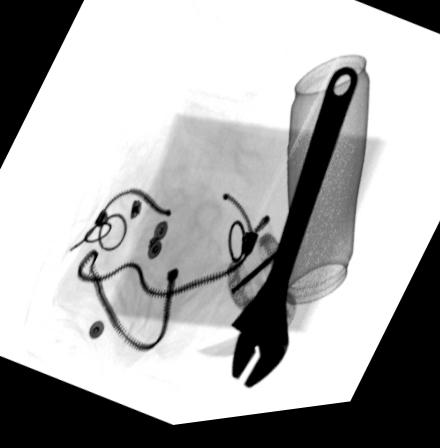Wrench: (227, 69, 362, 395)
